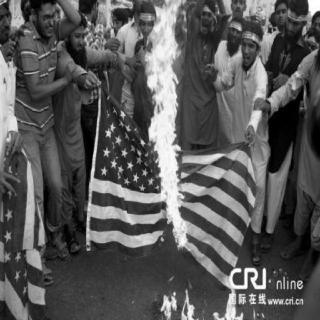Fire: (158, 272, 206, 320)
other: (0, 134, 47, 316)
